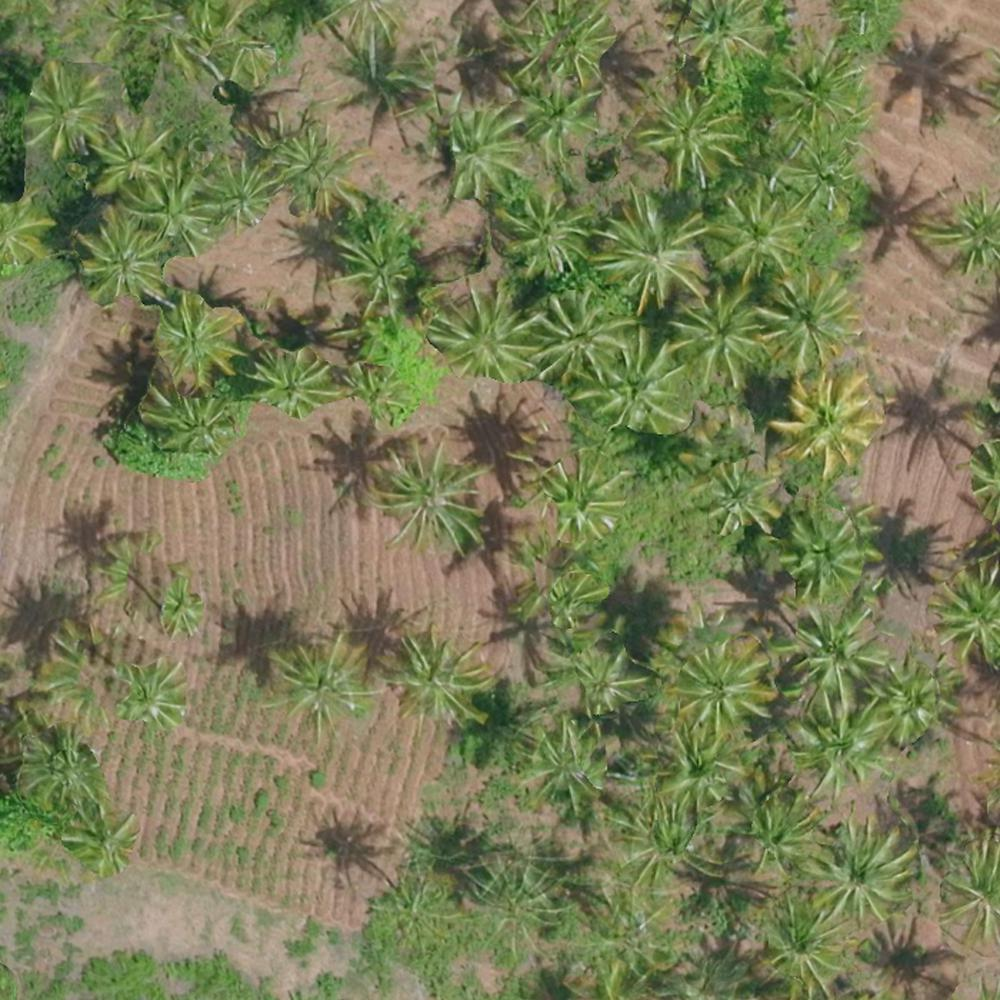Palm: (595, 192, 709, 311), (778, 375, 883, 476), (270, 633, 371, 734), (384, 448, 484, 550), (790, 695, 894, 793), (580, 333, 681, 433), (428, 285, 535, 377), (669, 283, 764, 386), (818, 821, 915, 918), (542, 285, 638, 383), (666, 639, 765, 732), (790, 604, 885, 700), (764, 277, 865, 363), (709, 182, 801, 274), (754, 909, 850, 997), (392, 633, 490, 719), (732, 782, 819, 878), (783, 501, 866, 597), (535, 454, 625, 542), (131, 157, 209, 258), (648, 723, 741, 807), (431, 109, 518, 198), (927, 563, 1000, 668), (643, 94, 738, 174), (512, 4, 613, 78), (77, 210, 162, 297), (494, 190, 582, 274), (152, 296, 242, 378), (679, 1, 771, 80), (24, 63, 107, 149), (771, 54, 855, 138), (696, 454, 785, 533), (522, 722, 604, 804), (516, 77, 600, 155), (774, 132, 857, 209), (558, 646, 647, 717), (90, 112, 165, 196), (278, 129, 358, 205), (144, 382, 234, 449), (879, 655, 952, 736), (250, 345, 332, 415), (332, 228, 407, 304), (198, 154, 272, 225), (65, 809, 135, 881), (931, 194, 1000, 267), (115, 662, 182, 736), (154, 572, 208, 634)
